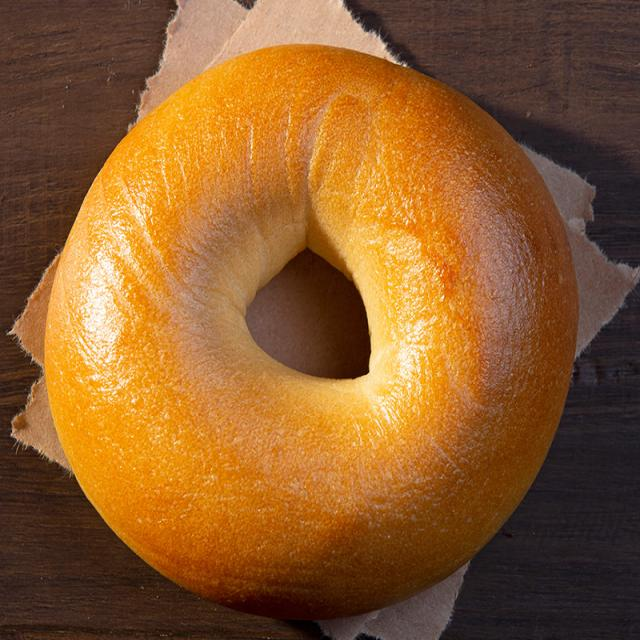Bagel: (45, 44, 578, 619)
